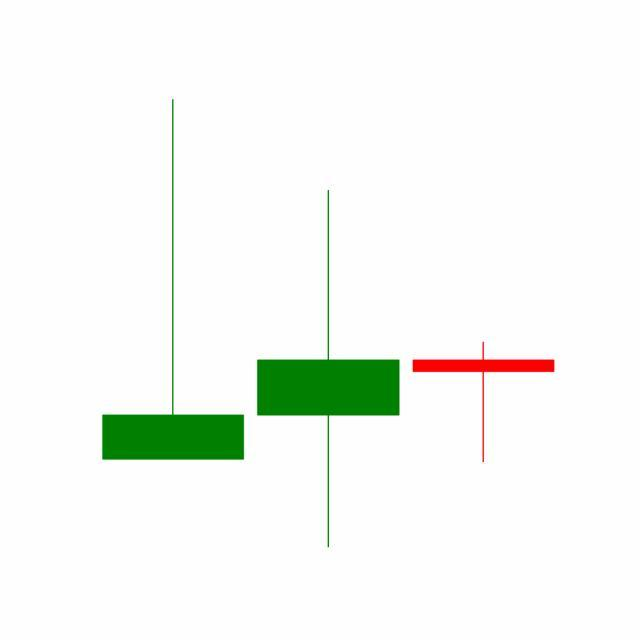Spinning Top: (406, 341, 562, 465)
